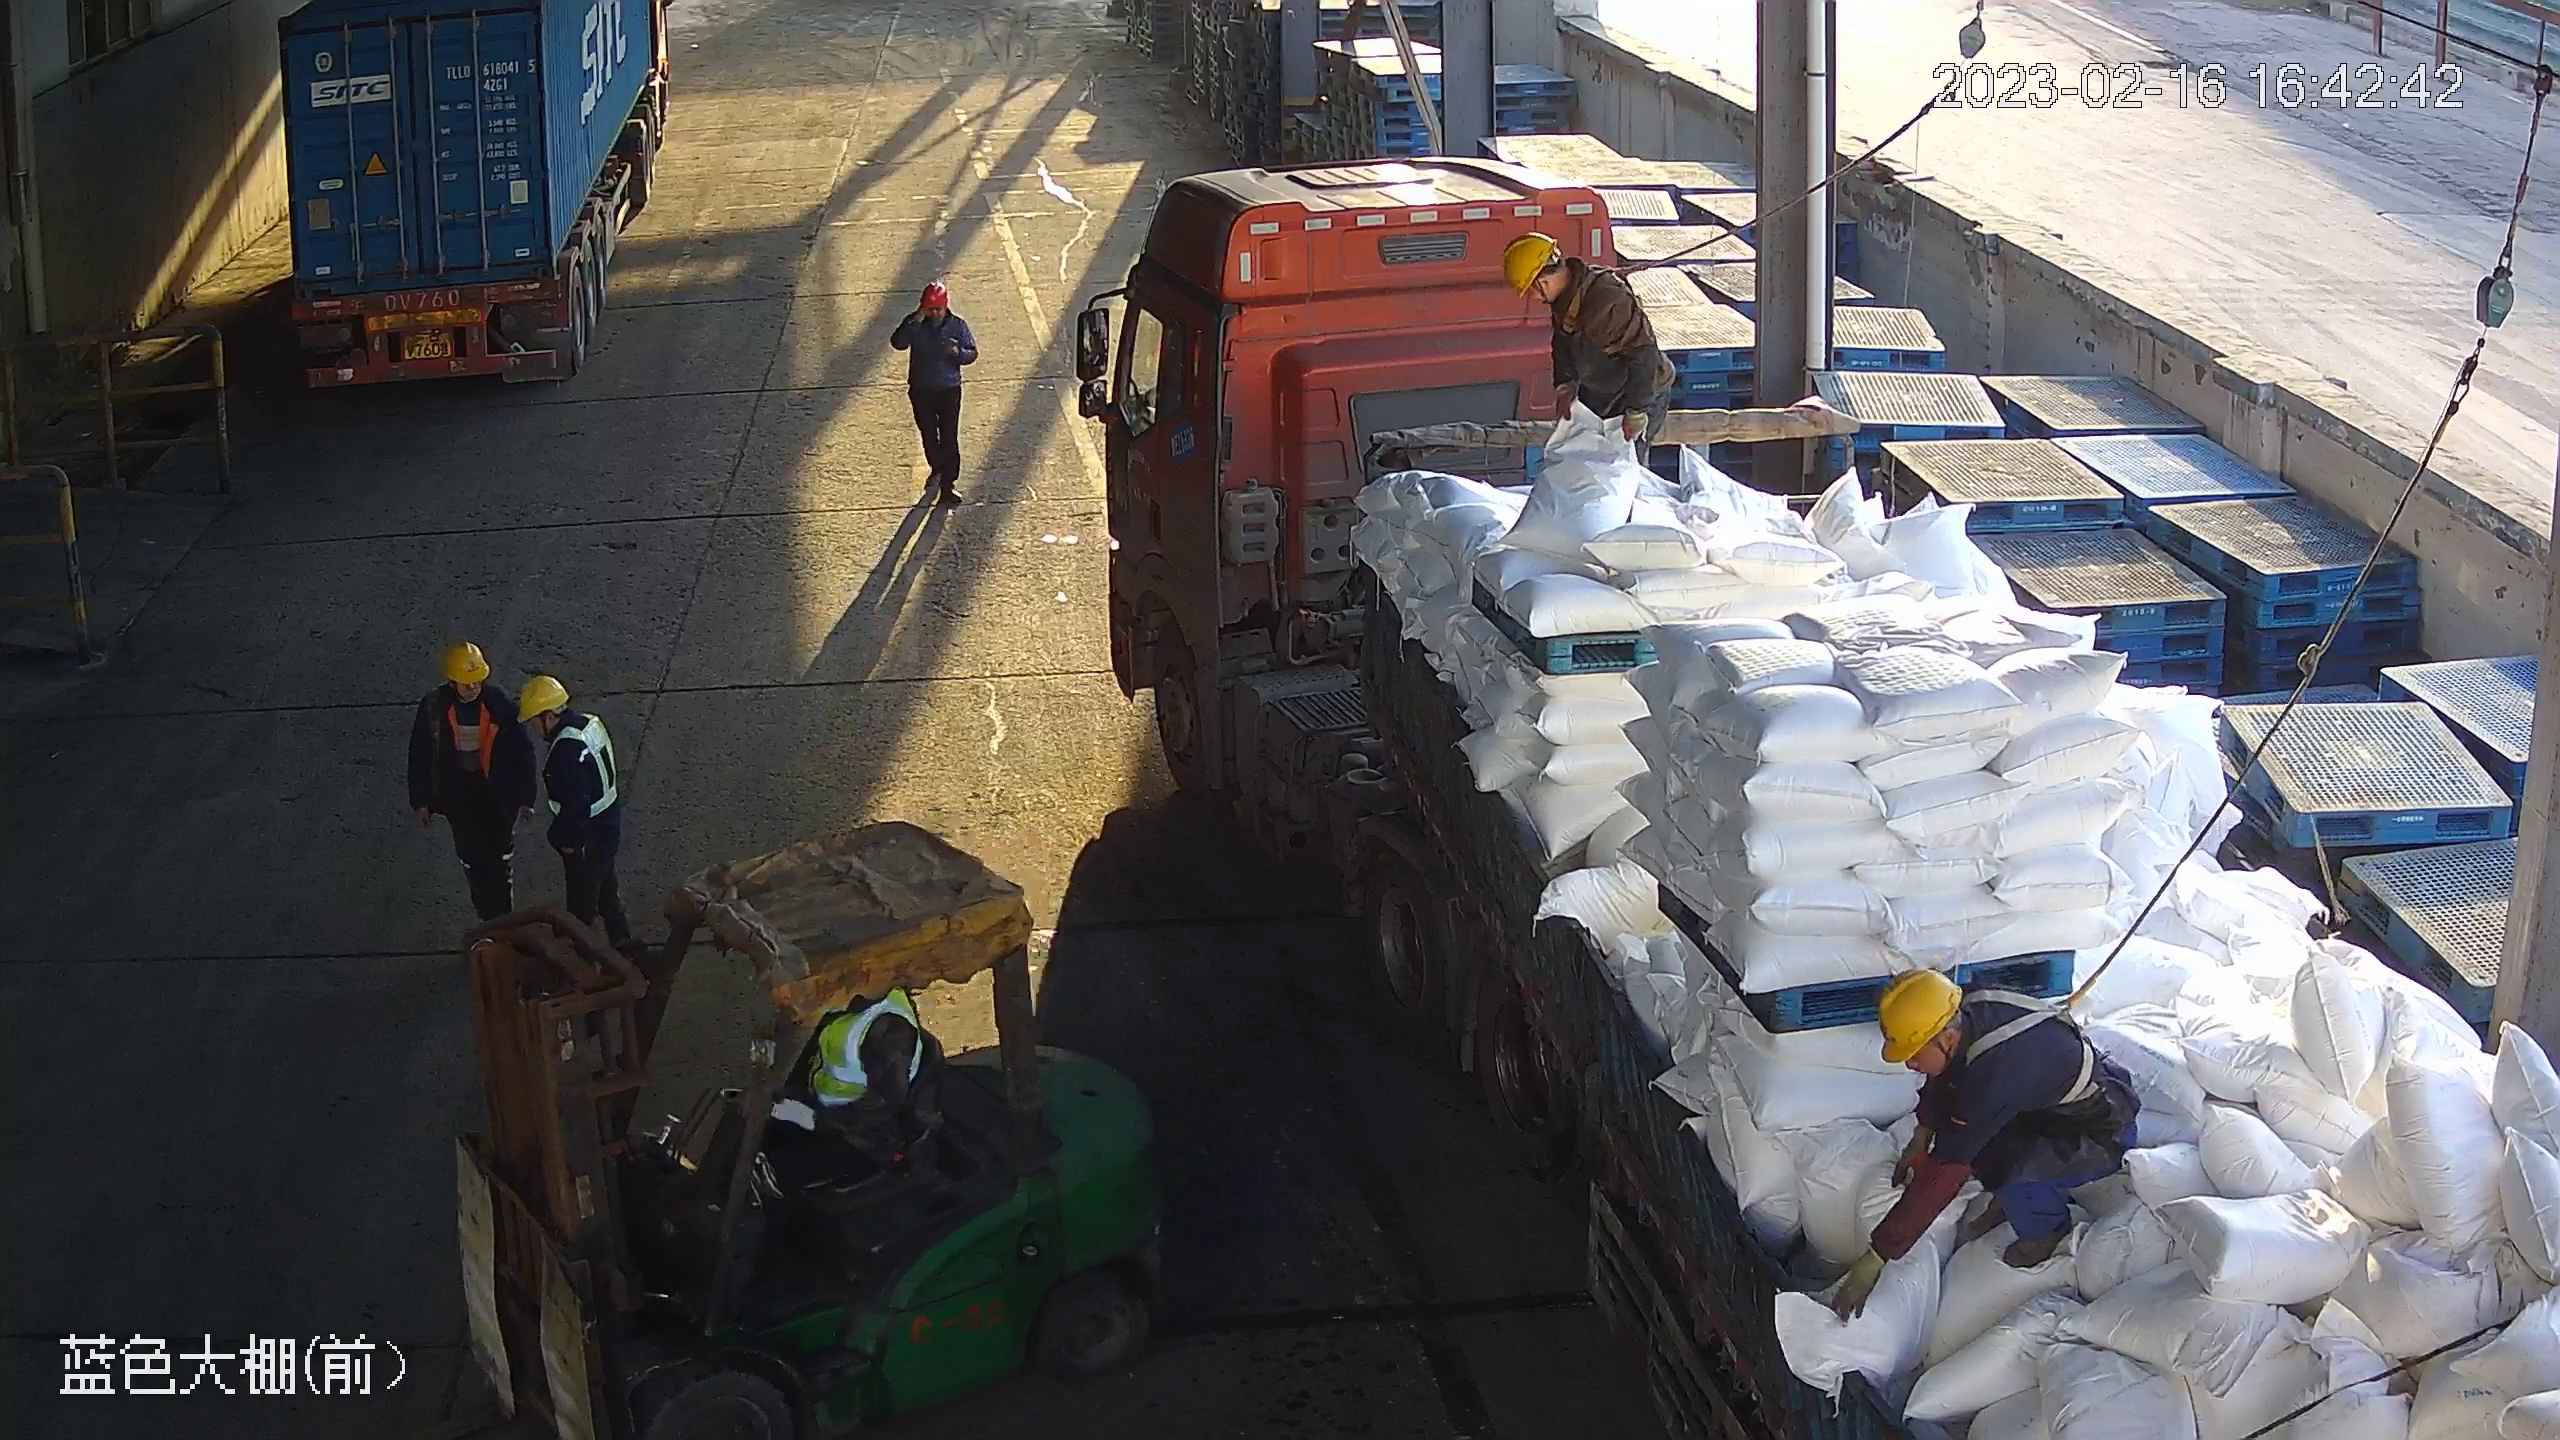belt: (1969, 974, 2115, 1113), (1562, 254, 1664, 332)
head: (1878, 971, 2061, 1142), (1495, 235, 1644, 362), (415, 641, 520, 743), (515, 674, 614, 775), (891, 285, 976, 346)
helmet: (1878, 967, 1964, 1072), (1503, 233, 1557, 300), (514, 674, 570, 722), (438, 642, 490, 684), (919, 283, 949, 312)
people: (1825, 966, 2162, 1328), (1496, 223, 1679, 469), (406, 638, 538, 927), (515, 671, 627, 964), (892, 281, 984, 507)
truck: (1069, 157, 2560, 1440), (273, 1, 679, 391)
